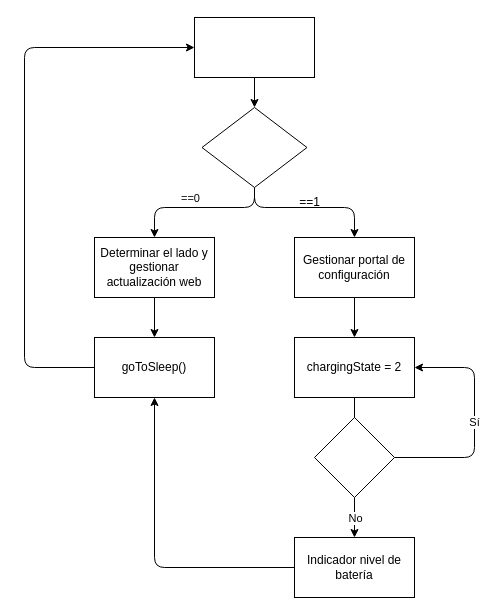
The diagram is 500 pixels wide and 615 high, and some of its shapes have lost their labels. Here are the shapes that lost their labels. From the top down, the centre of each, then its label:
At point 254,47: "void setup()".
At point 254,147: "chargingState".
At point 354,457: "Cargando".
